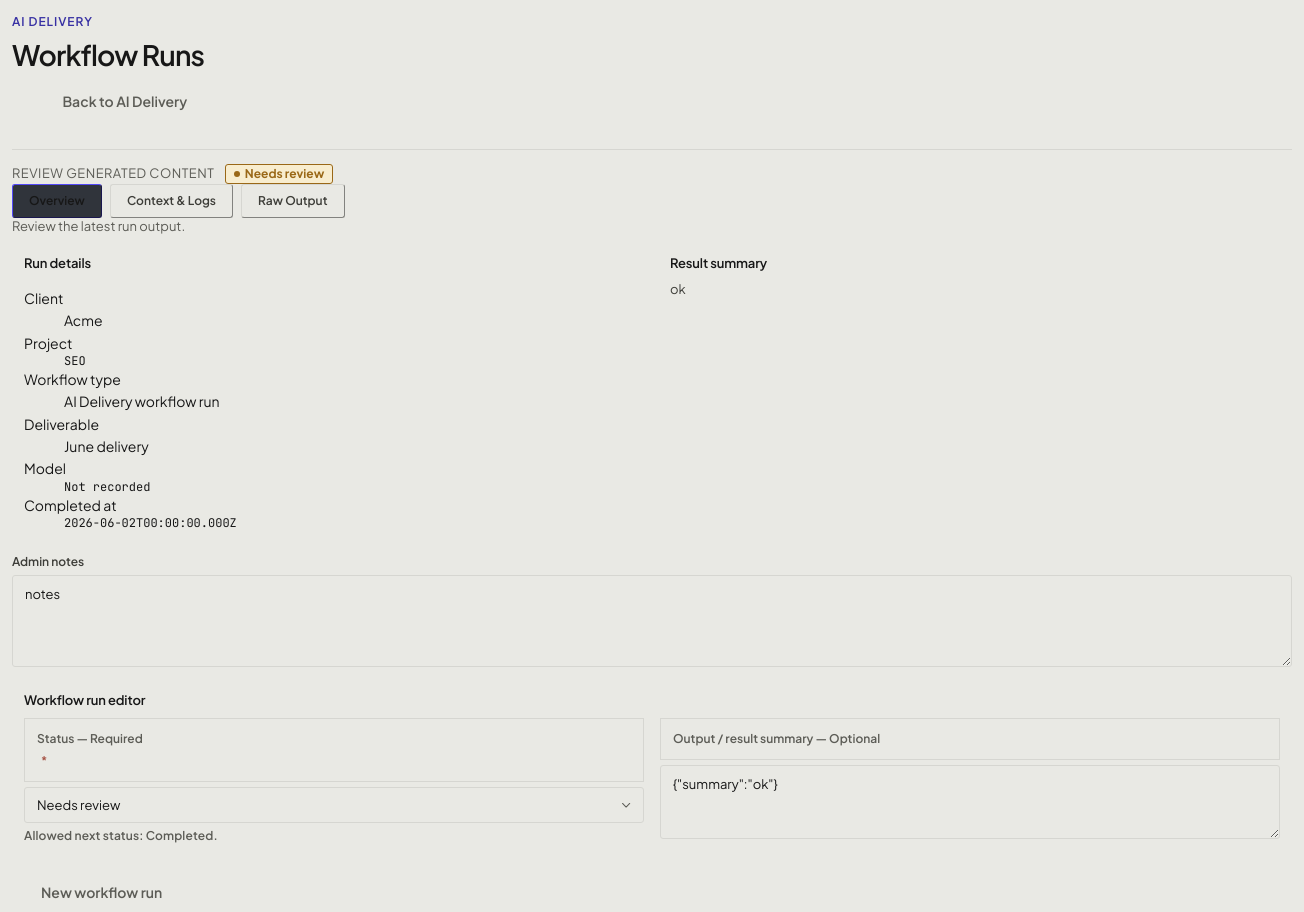
AiRunReviewModal › renders workflow history panel on Context & Logs
Click the tab "Context & Logs". click: (171, 201)
box: [110,184,233,218]
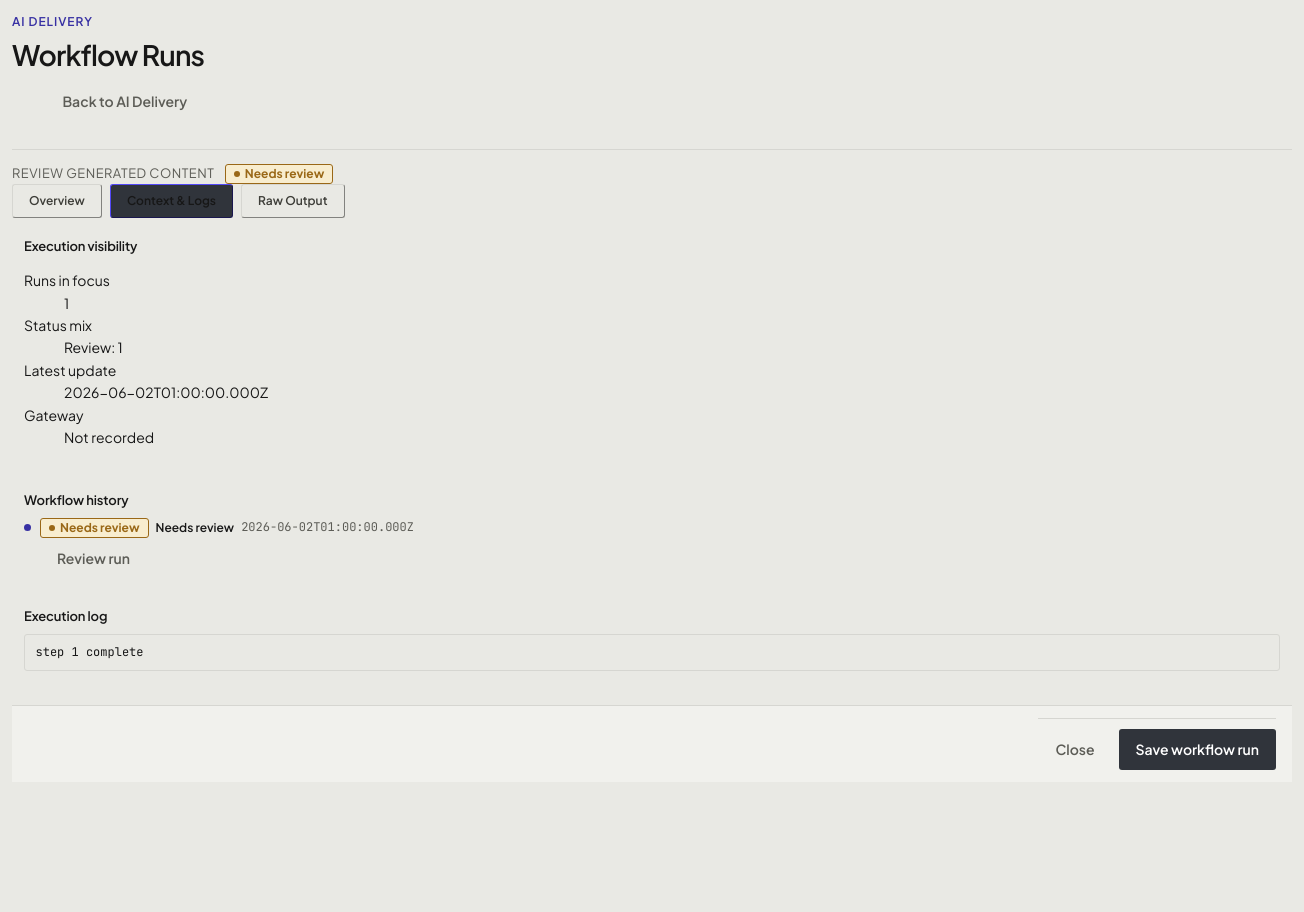
expect the heading "Workflow history" is shown: met, box [24,492,128,508]
expect the list named "Workflow run history" is shown: met, box [24,518,414,578]
expect the button "Review run" is shown: met, box [40,538,147,578]
